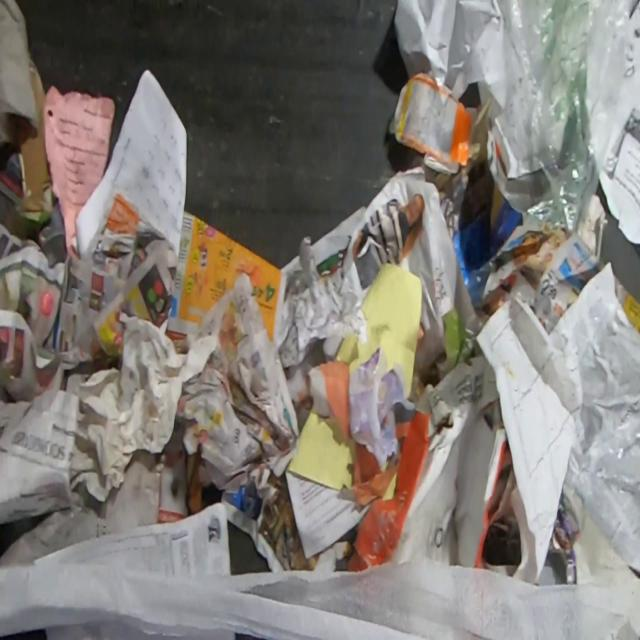cardboard: (344, 352, 508, 573), (0, 49, 58, 239), (388, 71, 474, 176)
soft_plastic: (485, 0, 640, 235), (347, 345, 408, 470)
